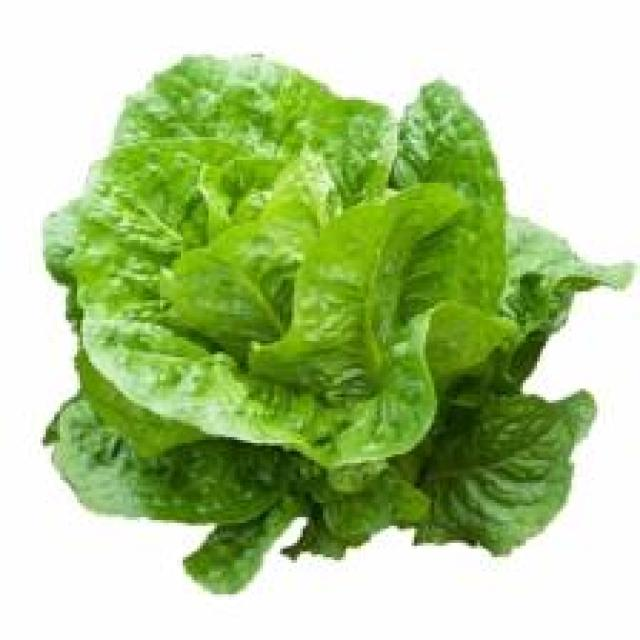Lettuce: (44, 52, 626, 562)
